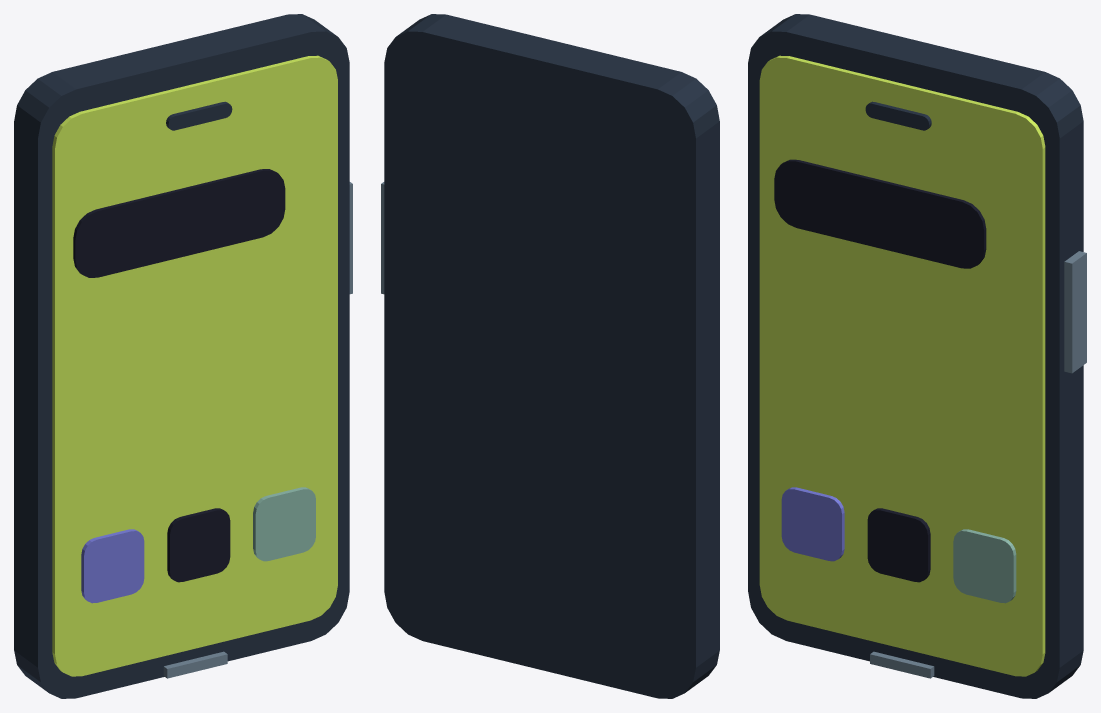
The model's file is phone.glb.
The picture shows the model from 3 angles, left to right: view 1: azimuth 30°, elevation 25°; view 2: azimuth 150°, elevation 25°; view 3: azimuth 330°, elevation 25°; orthographic projection.
Visible parts, largest first — view 1: screen, case, widget, app 1, app 0, app 2, earpiece, port; view 2: case; view 3: screen, case, widget, app 0, app 1, app 2, side switch, earpiece, port.
Part boxes in pixels (x1,y1,x2,y2): screen: [52, 55, 337, 676]; case: [14, 14, 349, 698]; widget: [73, 169, 285, 277]; app 1: [167, 508, 230, 582]; app 0: [81, 529, 144, 603]; app 2: [253, 487, 315, 561]; earpiece: [166, 101, 232, 130]; port: [163, 651, 227, 678]; case: [384, 14, 719, 698]; screen: [759, 55, 1045, 676]; case: [748, 14, 1083, 698]; widget: [774, 159, 986, 268]; app 0: [781, 487, 844, 561]; app 1: [867, 508, 930, 582]; app 2: [953, 529, 1016, 603]; side switch: [1064, 251, 1086, 373]; earpiece: [865, 101, 931, 130]; port: [870, 651, 934, 678].
Size of the model in its own units: 1 by 1.83 by 0.166.
